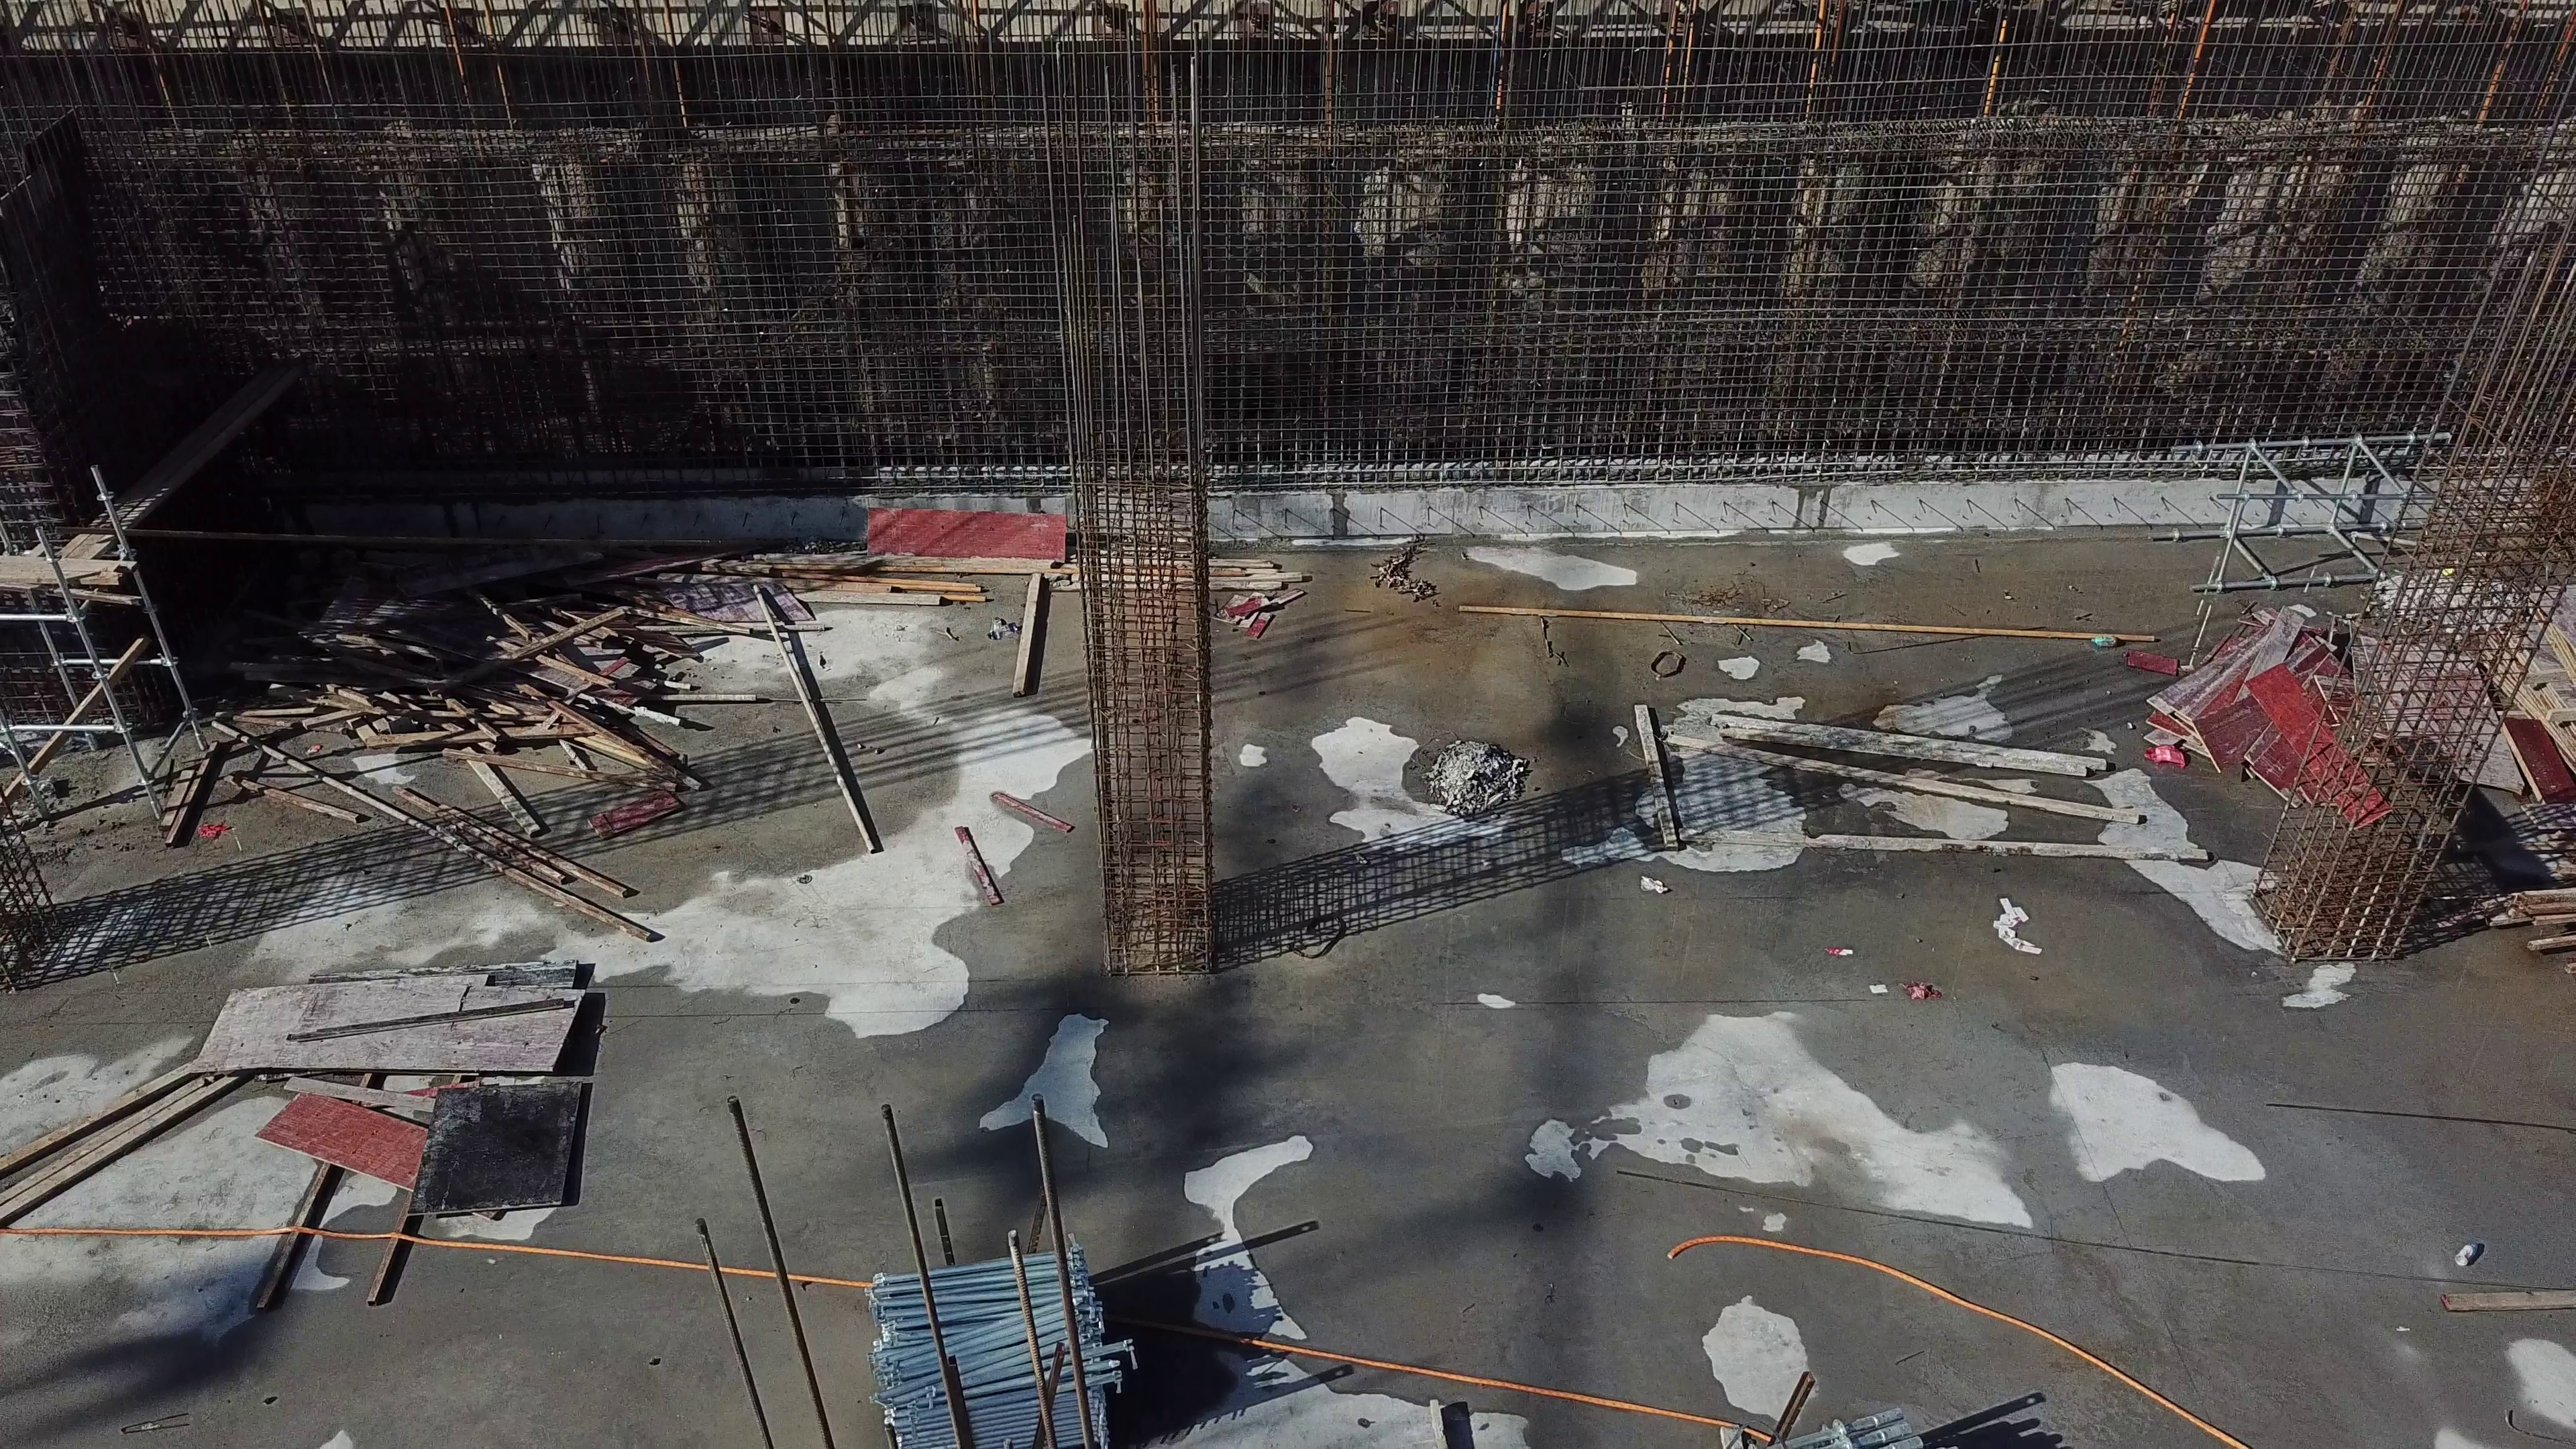scaffold: (835, 1221, 1173, 1449)
